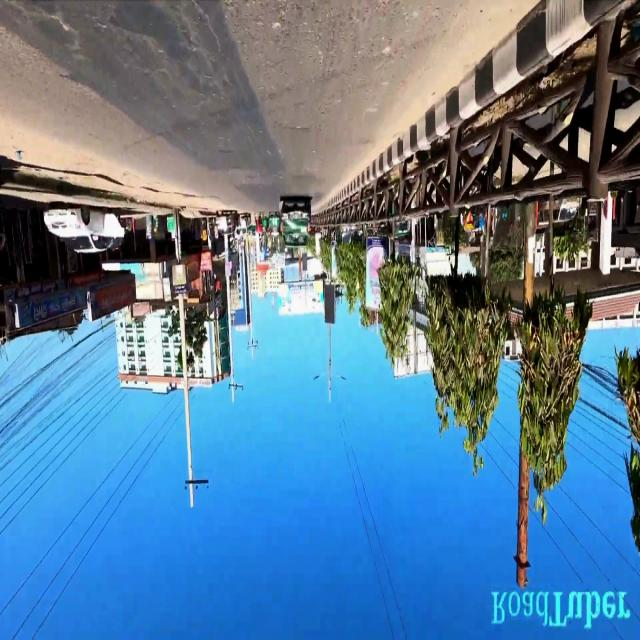white: (41, 204, 130, 258), (236, 213, 252, 237)
